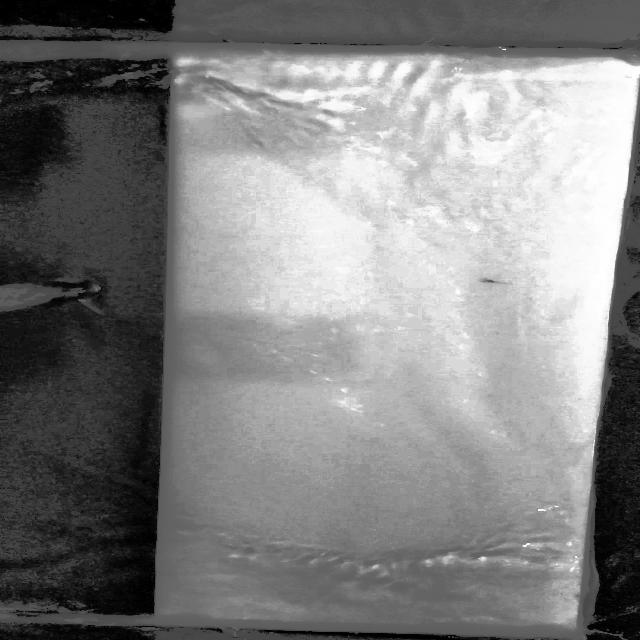shrimp: (479, 275, 506, 294)
